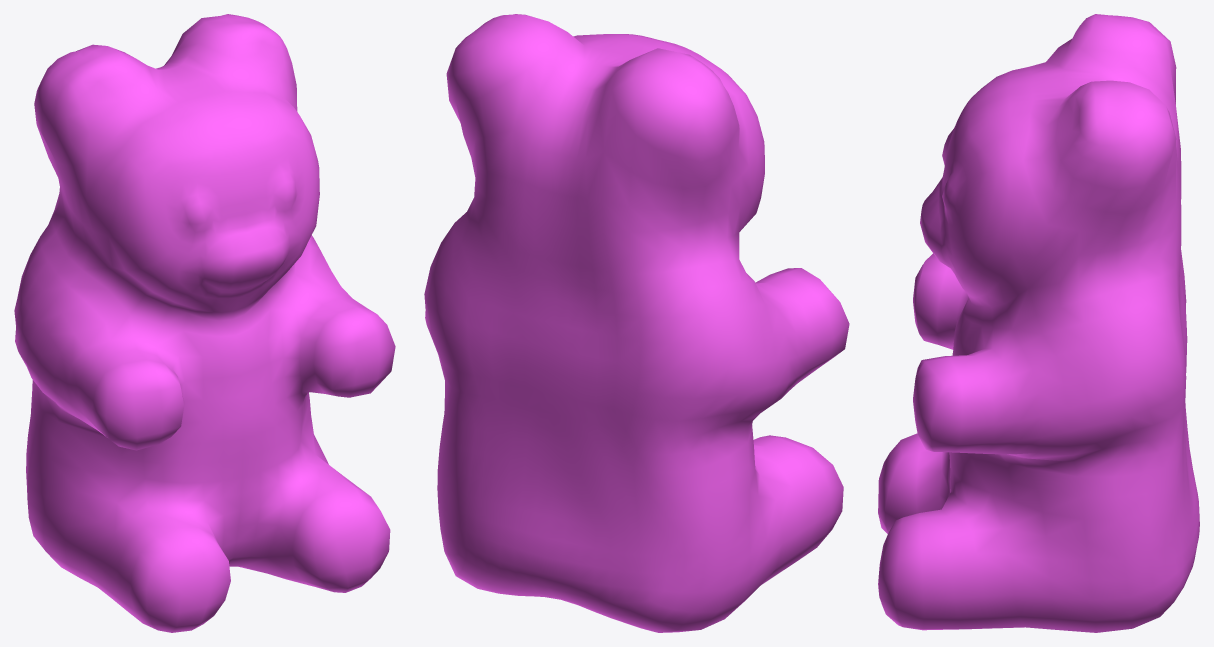
The model's file is Gummy2.glb.
The picture shows the model from 3 angles, left to right: view 1: azimuth 30°, elevation 25°; view 2: azimuth 150°, elevation 25°; view 3: azimuth 270°, elevation 25°; orthographic projection. The views are drawn at different scales.
Visible parts, largest first — view 1: Object_9; view 2: Object_9; view 3: Object_9.
Boxes of the visible parts, <box> form: Object_9: <box>14,14,395,632</box>; Object_9: <box>424,14,849,632</box>; Object_9: <box>878,14,1199,632</box>.
Size of the model in its own units: 2.34 by 3.84 by 2.11.
